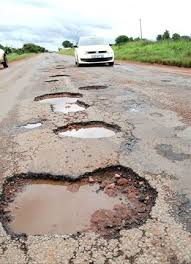pothole: (1, 158, 167, 259), (53, 118, 130, 143), (29, 88, 92, 112), (81, 80, 114, 95), (19, 121, 44, 132), (38, 78, 63, 82)
